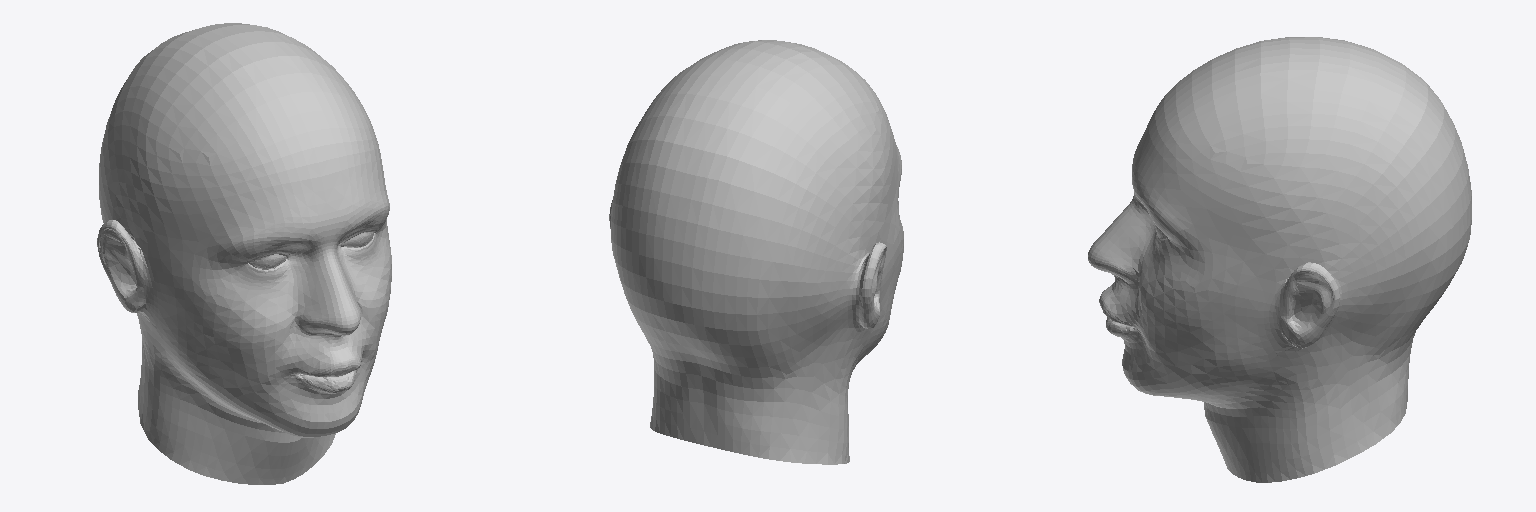
The model's file is MaleFace_ExpressionKiss.obj.
3 views of the same model, side by side, from view 1: azimuth 30°, elevation 25°; view 2: azimuth 150°, elevation 25°; view 3: azimuth 270°, elevation 25° (orthographic).
Size of the model in its own units: 189 by 284 by 238.